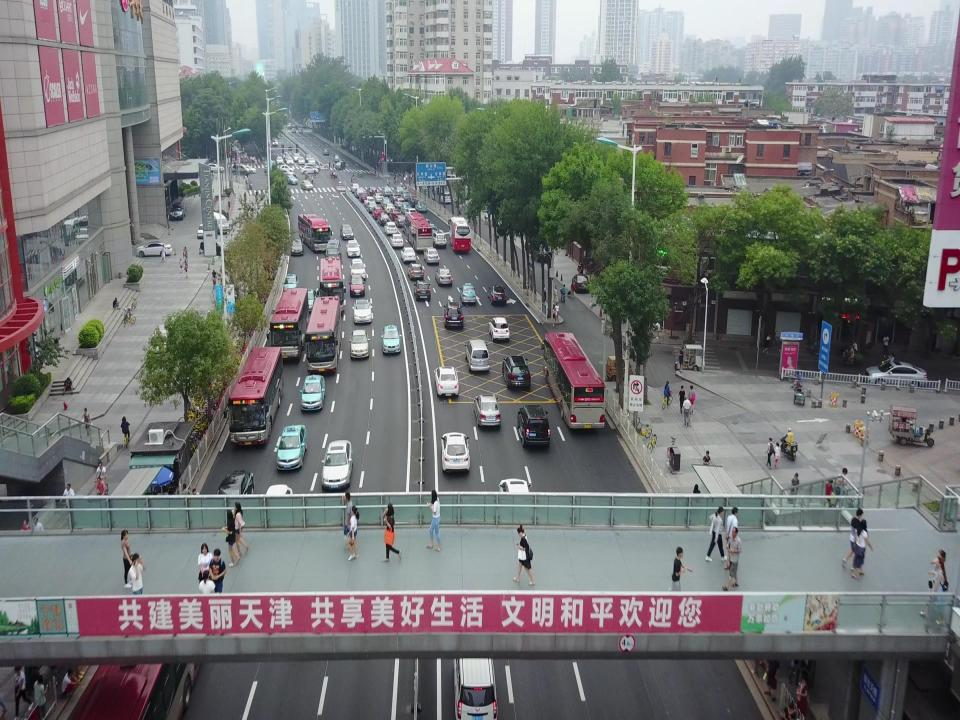bus: (73, 539, 214, 709), (542, 331, 606, 432), (223, 346, 283, 450), (265, 287, 309, 362), (305, 296, 341, 377), (320, 255, 347, 312), (297, 213, 332, 252), (405, 212, 433, 253), (447, 216, 471, 251)
car: (210, 471, 255, 523), (498, 478, 536, 527), (258, 484, 294, 535), (321, 439, 353, 490), (274, 424, 307, 471), (516, 404, 550, 448), (440, 431, 470, 476), (473, 392, 501, 429), (501, 355, 531, 387), (301, 376, 325, 413), (433, 364, 459, 397), (134, 241, 172, 258), (349, 329, 370, 359), (381, 324, 401, 354), (488, 316, 510, 340), (444, 301, 464, 327), (352, 298, 372, 322), (349, 258, 367, 281), (530, 244, 552, 262), (282, 273, 299, 296), (413, 279, 431, 300), (302, 287, 316, 313), (572, 274, 590, 294), (348, 273, 364, 295), (488, 285, 506, 304), (460, 282, 476, 303), (435, 268, 453, 286), (524, 235, 543, 252), (423, 247, 440, 264), (169, 201, 184, 220), (407, 263, 424, 279), (431, 231, 447, 248), (346, 239, 360, 257), (290, 238, 304, 255), (401, 247, 417, 261), (340, 223, 354, 238), (390, 233, 403, 247), (384, 221, 396, 236), (207, 163, 223, 174), (426, 222, 438, 236), (197, 223, 208, 238), (395, 214, 407, 227), (378, 213, 390, 225), (390, 208, 402, 220), (415, 201, 427, 213), (372, 206, 383, 219), (380, 197, 392, 208), (408, 196, 419, 207), (366, 201, 377, 212), (402, 223, 412, 235), (406, 208, 418, 218), (400, 204, 412, 214), (364, 196, 375, 206), (374, 192, 384, 203), (382, 186, 392, 196), (385, 204, 395, 213), (395, 198, 405, 207), (401, 191, 411, 200), (390, 193, 400, 202), (354, 188, 364, 197), (360, 192, 368, 201)
van: (453, 630, 501, 719), (464, 338, 490, 371), (205, 210, 229, 234), (325, 239, 340, 265), (420, 216, 432, 229), (439, 191, 451, 203)
